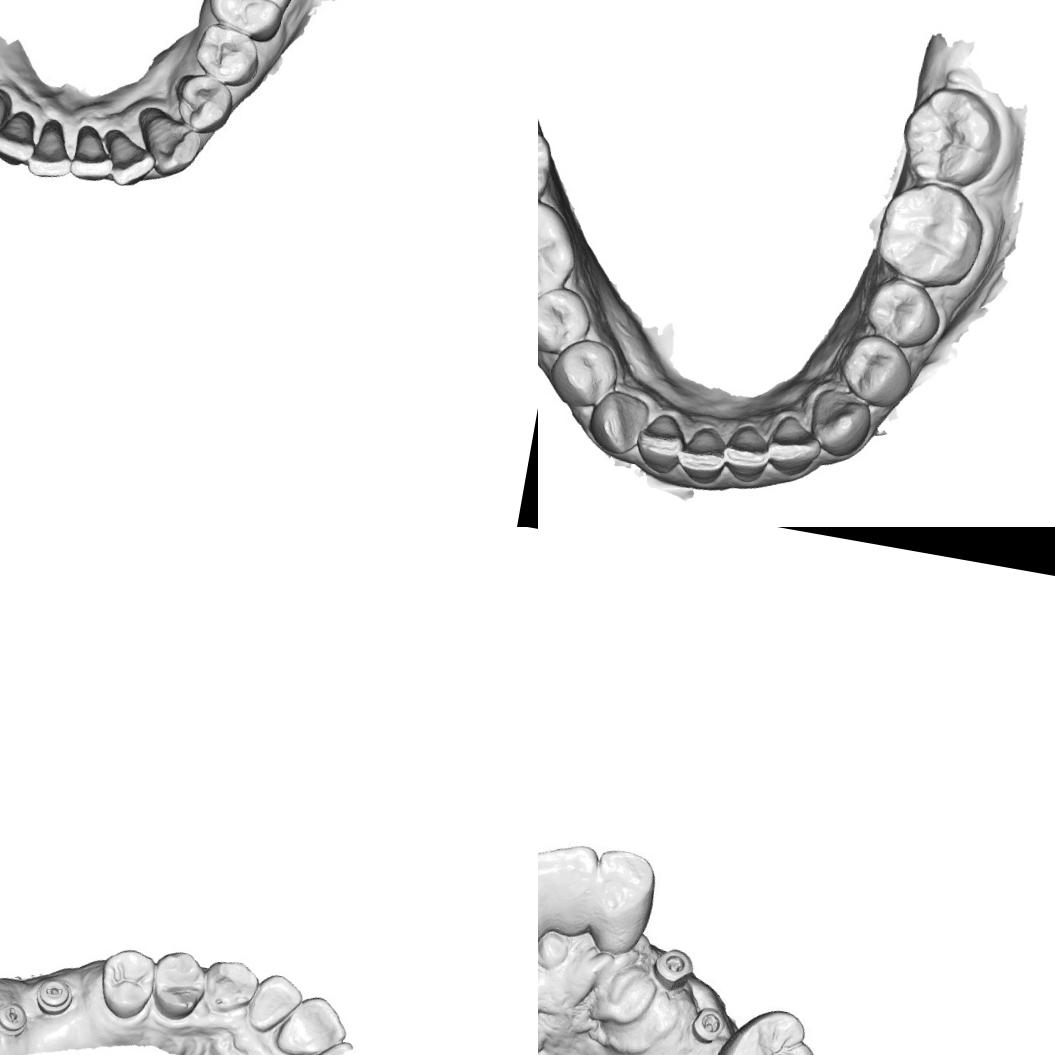canine: (126, 100, 202, 176), (804, 382, 872, 460), (584, 385, 649, 459), (197, 954, 263, 1020)
implant: (686, 998, 736, 1054), (652, 943, 698, 994)
implant_minus: (32, 974, 76, 1020), (0, 996, 30, 1037)
incisor: (585, 846, 663, 958), (538, 836, 608, 948), (272, 987, 355, 1055), (243, 968, 306, 1038), (766, 409, 827, 479), (102, 125, 162, 192), (632, 406, 686, 477), (672, 420, 729, 486), (720, 420, 774, 486), (27, 120, 81, 184), (65, 122, 118, 186), (0, 104, 40, 167)
molar: (894, 76, 1009, 196), (870, 177, 990, 292), (707, 1000, 823, 1055), (538, 191, 584, 311), (206, 0, 298, 34), (538, 106, 559, 211)
premolar: (546, 332, 627, 417), (859, 274, 944, 352), (836, 332, 918, 412), (92, 942, 160, 1024), (144, 946, 212, 1025), (191, 23, 260, 88), (538, 281, 594, 361), (175, 73, 235, 130)
